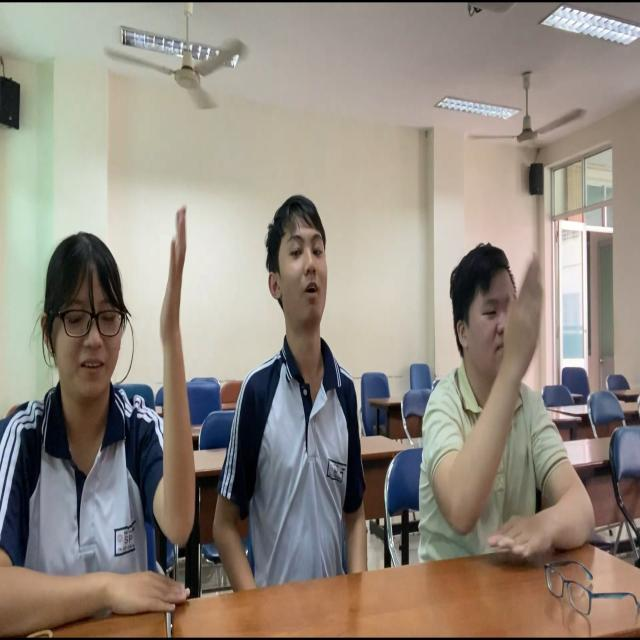raise_hand: (1, 191, 202, 627), (425, 234, 598, 576)
